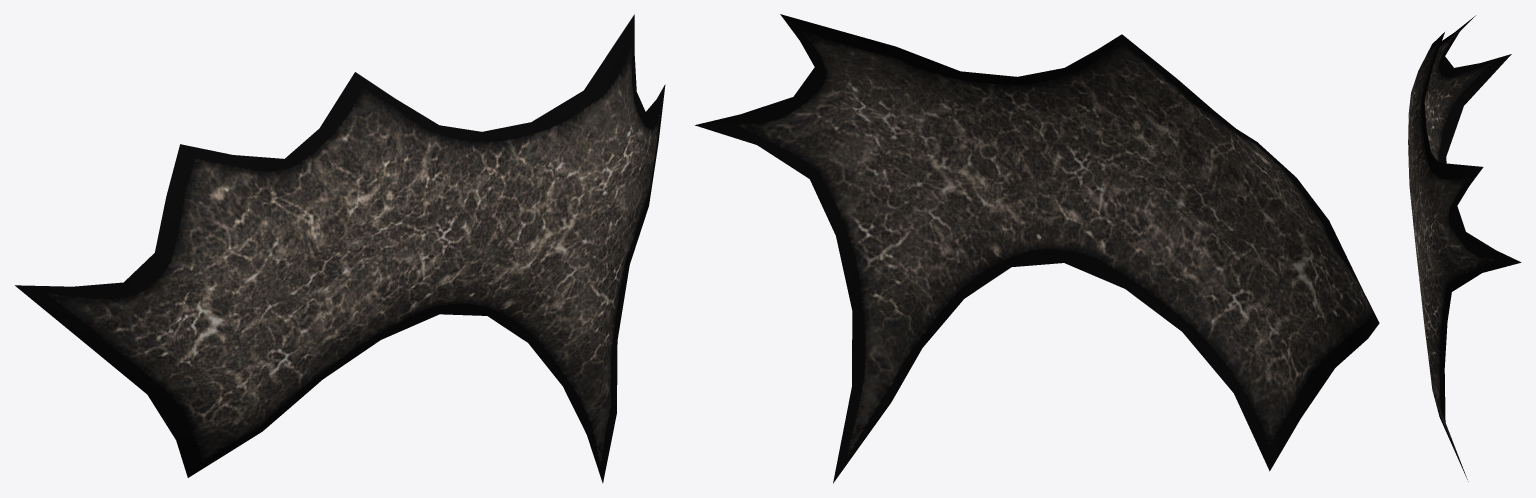
Rendered from cobwebs_strong_01.dae.
The picture shows the model from 3 angles, left to right: view 1: azimuth 30°, elevation 25°; view 2: azimuth 150°, elevation 25°; view 3: azimuth 270°, elevation 25°; orthographic projection. The views are drawn at different scales.
Parts seen in each view (by area): view 1: cobweb_1; view 2: cobweb_1; view 3: cobweb_1.
Part boxes in pixels (x1,y1,x2,y2): cobweb_1: [15, 14, 665, 483]; cobweb_1: [695, 14, 1379, 483]; cobweb_1: [1408, 15, 1521, 481].
Size of the model in its own units: 1.01 by 0.7142 by 0.2056.
